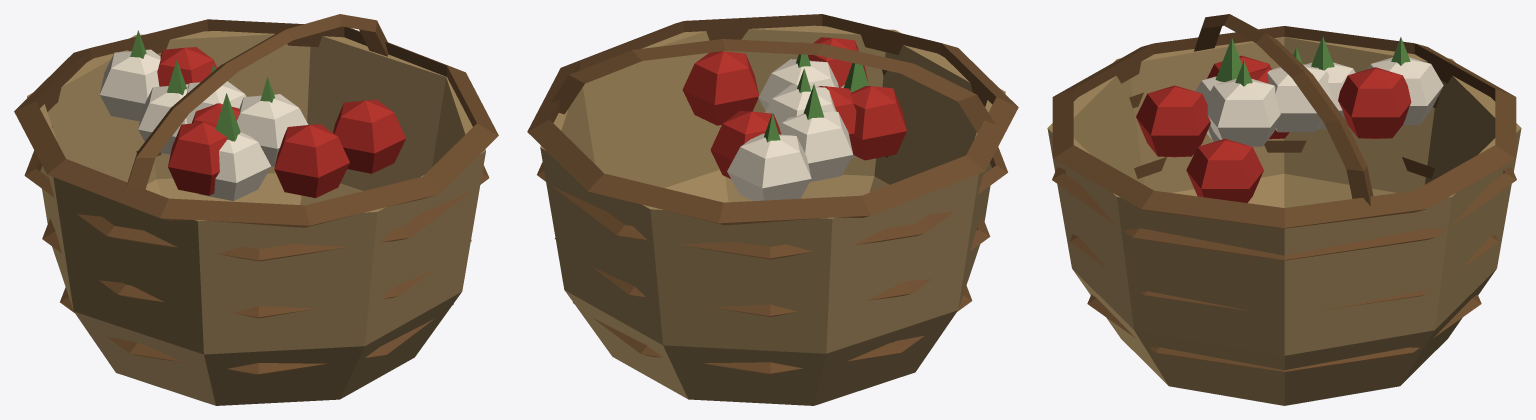
Rendered from basket-goods-a.glb.
3 views of the same model, side by side, from view 1: azimuth 30°, elevation 25°; view 2: azimuth 150°, elevation 25°; view 3: azimuth 270°, elevation 25° (orthographic). The views are drawn at different scales.
Visible parts, largest first — view 1: Body_Rope, Body_Wood, Body_Main, Body_Second, Body_Plant; view 2: Body_Rope, Body_Wood, Body_Main, Body_Second, Body_Plant; view 3: Body_Rope, Body_Wood, Body_Main, Body_Second, Body_Plant.
Part boxes in pixels (x1,y1,x2,y2): Body_Rope: [27, 31, 485, 405]; Body_Wood: [14, 14, 498, 374]; Body_Main: [157, 47, 405, 198]; Body_Second: [99, 49, 308, 200]; Body_Plant: [130, 30, 274, 141]; Body_Rope: [540, 25, 1005, 405]; Body_Wood: [527, 14, 1018, 374]; Body_Main: [682, 37, 906, 178]; Body_Second: [727, 59, 857, 200]; Body_Plant: [764, 41, 868, 142]; Body_Rope: [1047, 37, 1521, 405]; Body_Wood: [1052, 14, 1516, 372]; Body_Main: [1136, 55, 1411, 202]; Body_Second: [1195, 57, 1443, 146]; Body_Plant: [1215, 36, 1410, 86].
Bounding box in the file's own units: 0.6 × 0.4 × 0.6.
